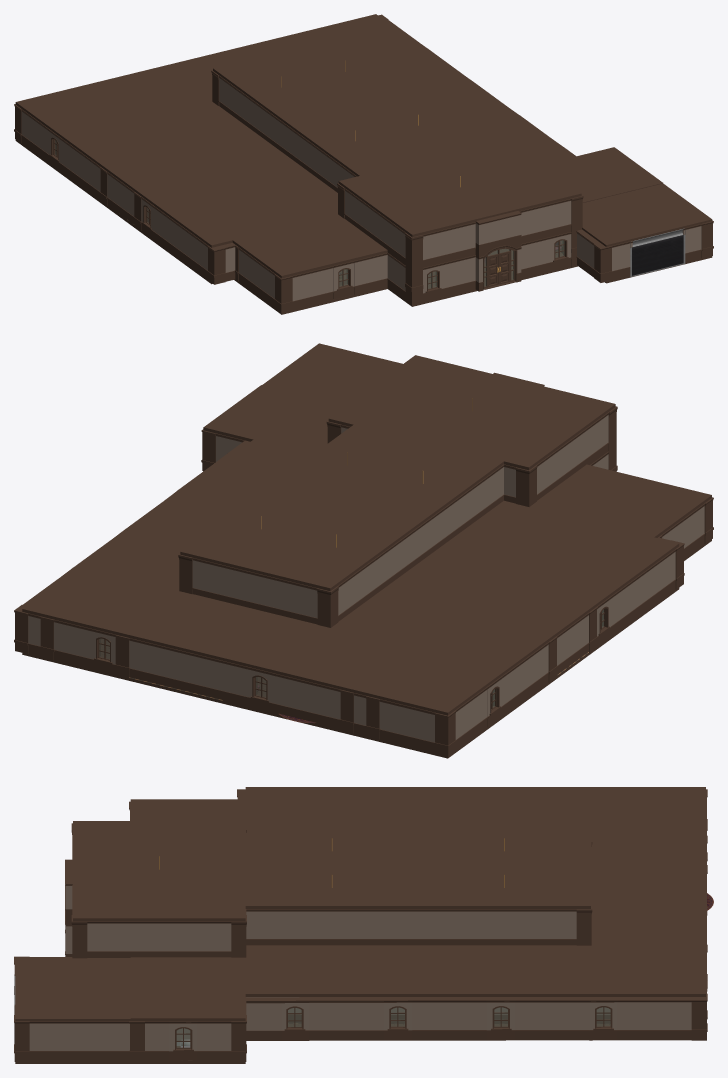
The model's file is Mansion.glb.
3 renders of one model, top to bottom at view 1: azimuth 30°, elevation 25°; view 2: azimuth 150°, elevation 25°; view 3: azimuth 270°, elevation 25°, orthographic. The views are drawn at different scales.
Parts seen in each view (by area): view 1: S_Ceiling.004, S_Ceiling.011, S_Ceiling, S_Ceiling.007, S_Ceiling.038, S_Ceiling.009, S_Ceiling.036, S_Ceiling.005, S_Ceiling.035, S_Ceiling.037, S_WallEmpty.027, S_Ceiling.019 (+50 smaller); view 2: S_Ceiling.004, S_Ceiling.011, S_Ceiling.007, S_Ceiling, S_Ceiling.036, S_Ceiling.005, S_Ceiling.009, S_Ceiling.037, S_Ceiling.035, S_WallEmpty.027, S_Ceiling.022, S_Ceiling.006 (+40 smaller); view 3: S_Ceiling.004, S_WallEmpty.031, S_Ceiling.011, S_Ceiling.006, S_Ceiling.038, S_Ceiling.035, S_Ceiling.037, S_Ceiling.005, S_Ceiling.009, S_Ceiling.036, S_Ceiling.022, S_Ceiling.033 (+46 smaller).
Boxes of the visible parts, bbox=[...] form: S_Ceiling.004: bbox=[338, 139, 581, 237]; S_Ceiling.011: bbox=[15, 86, 164, 166]; S_Ceiling: bbox=[232, 214, 387, 278]; S_Ceiling.007: bbox=[211, 146, 337, 224]; S_Ceiling.038: bbox=[582, 183, 712, 246]; S_Ceiling.009: bbox=[138, 176, 274, 247]; S_Ceiling.036: bbox=[213, 53, 349, 124]; S_Ceiling.005: bbox=[286, 106, 422, 176]; S_Ceiling.035: bbox=[350, 91, 486, 160]; S_Ceiling.037: bbox=[277, 37, 412, 106]; S_WallEmpty.027: bbox=[218, 75, 356, 192]; S_Ceiling.019: bbox=[150, 102, 273, 161]; S_Ceiling.004: bbox=[328, 355, 615, 470]; S_Ceiling.011: bbox=[372, 620, 548, 715]; S_Ceiling.007: bbox=[403, 500, 578, 592]; S_Ceiling: bbox=[530, 464, 711, 537]; S_Ceiling.036: bbox=[255, 506, 417, 591]; S_Ceiling.005: bbox=[342, 443, 503, 527]; S_Ceiling.009: bbox=[518, 525, 679, 609]; S_Ceiling.037: bbox=[180, 488, 341, 572]; S_Ceiling.035: bbox=[267, 425, 428, 506]; S_WallEmpty.027: bbox=[338, 464, 504, 621]; S_Ceiling.022: bbox=[122, 591, 279, 660]; S_Ceiling.006: bbox=[203, 385, 345, 453]; S_Ceiling.004: bbox=[73, 821, 245, 921]; S_WallEmpty.031: bbox=[246, 909, 576, 945]; S_Ceiling.011: bbox=[504, 787, 705, 823]; S_Ceiling.006: bbox=[130, 957, 245, 1020]; S_Ceiling.038: bbox=[15, 958, 130, 1020]; S_Ceiling.035: bbox=[245, 869, 418, 908]; S_Ceiling.037: bbox=[418, 869, 590, 908]; S_Ceiling.005: bbox=[245, 833, 418, 869]; S_Ceiling.009: bbox=[245, 787, 418, 823]; S_Ceiling.036: bbox=[418, 833, 590, 869]; S_Ceiling.022: bbox=[591, 896, 705, 945]; S_Ceiling.033: bbox=[418, 945, 562, 981].
Size of the model in its own units: 38.2 by 7.65 by 48.64.
Materials: 95 (19 with a texture image).
